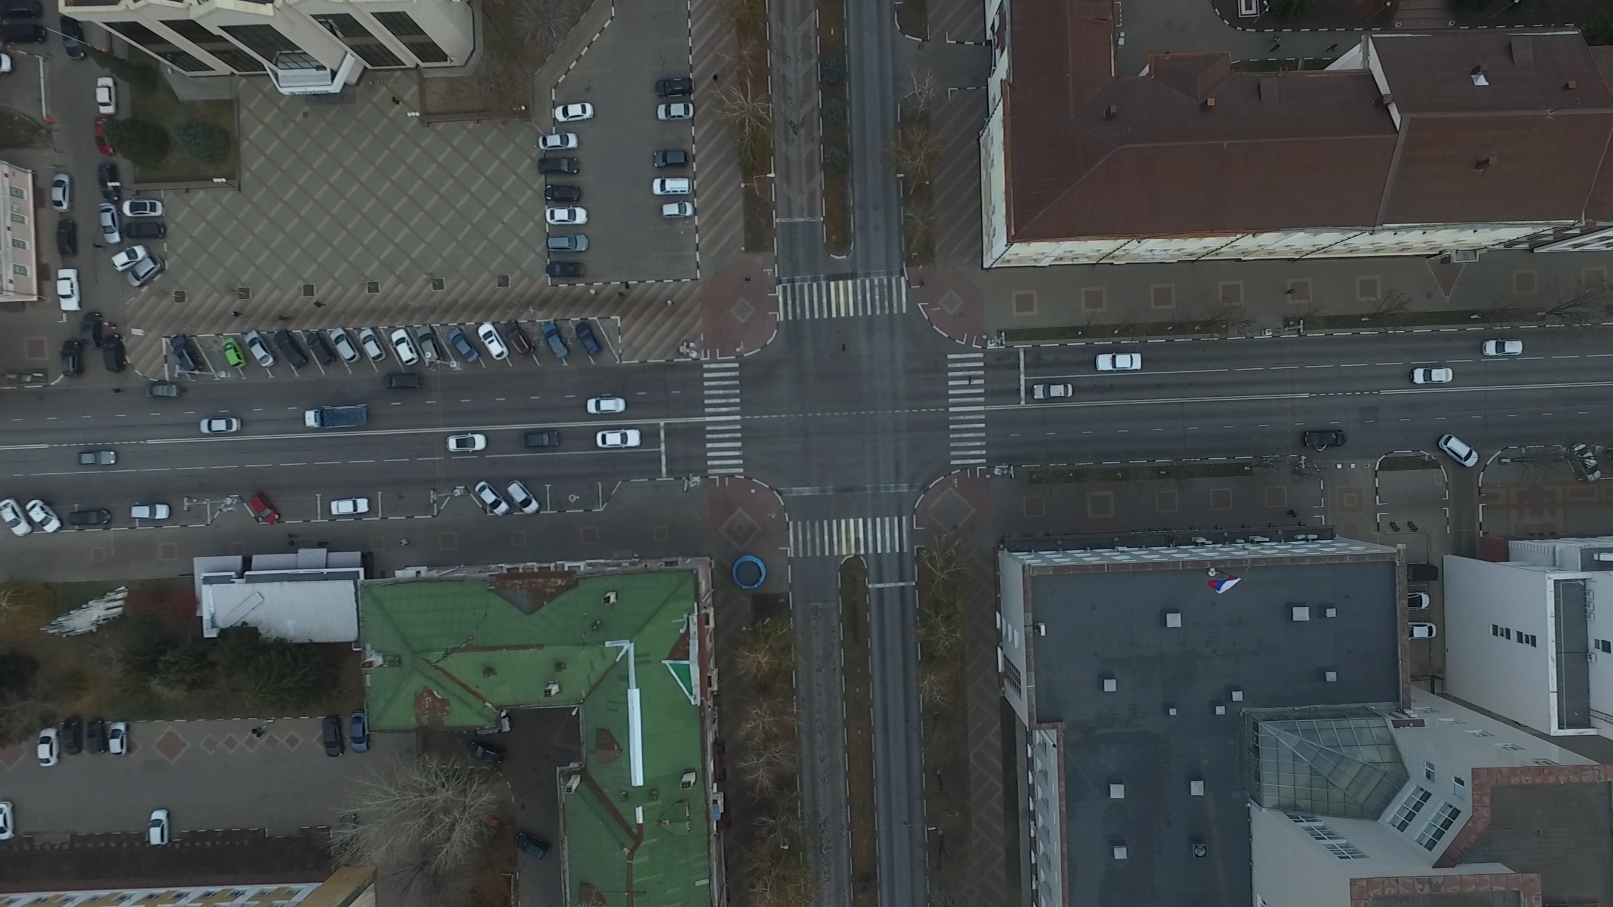car: (115, 248, 166, 284), (166, 334, 206, 377), (1435, 433, 1482, 467), (301, 405, 369, 429), (466, 478, 507, 515), (270, 327, 305, 369), (323, 327, 359, 367), (239, 328, 275, 368), (1564, 442, 1597, 484), (51, 265, 81, 311), (499, 320, 534, 358), (473, 321, 507, 359), (443, 326, 477, 363), (25, 495, 60, 533), (410, 323, 440, 365), (34, 723, 62, 769), (512, 832, 551, 864), (326, 813, 353, 857), (533, 320, 563, 361), (386, 328, 418, 365), (504, 480, 538, 514), (115, 212, 160, 238), (465, 739, 504, 769), (1, 492, 27, 537), (54, 719, 83, 759), (355, 327, 387, 362), (301, 329, 332, 365), (1302, 431, 1346, 456), (99, 334, 125, 377), (112, 241, 152, 269), (94, 200, 120, 244), (92, 112, 117, 155), (45, 171, 72, 212), (1, 19, 48, 42), (145, 807, 171, 849), (93, 159, 119, 200), (90, 76, 117, 114), (543, 203, 588, 225), (348, 712, 371, 755), (1478, 339, 1525, 360), (247, 491, 278, 523), (321, 717, 345, 759), (78, 310, 103, 348), (1093, 353, 1144, 372), (566, 324, 595, 358), (119, 193, 162, 215), (547, 102, 593, 123), (58, 336, 81, 377), (594, 429, 641, 449), (218, 334, 245, 370), (545, 231, 589, 252), (380, 369, 423, 390), (654, 101, 697, 122), (194, 418, 245, 435), (654, 75, 694, 97), (443, 435, 487, 455), (83, 717, 106, 754), (63, 506, 110, 525), (534, 156, 581, 175), (1410, 367, 1457, 385), (103, 721, 129, 755), (535, 130, 577, 150), (650, 147, 688, 169), (653, 175, 694, 195), (540, 181, 581, 200), (583, 398, 628, 415), (129, 502, 171, 521), (56, 216, 78, 254), (78, 449, 120, 467), (655, 200, 694, 220), (541, 259, 584, 277), (146, 380, 186, 399), (523, 430, 559, 449), (1030, 384, 1073, 400), (1405, 564, 1436, 585), (329, 498, 371, 514), (1, 802, 17, 842), (1405, 623, 1436, 640), (1405, 594, 1431, 611)
